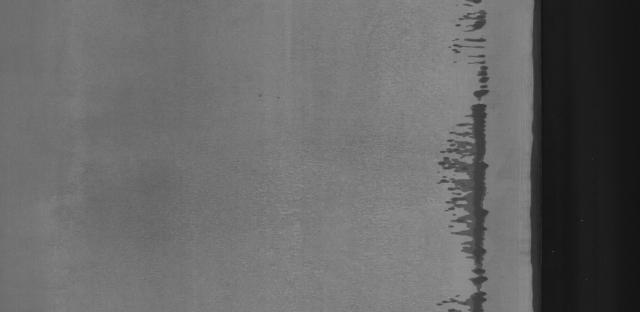oil_spot: (422, 0, 501, 310)
